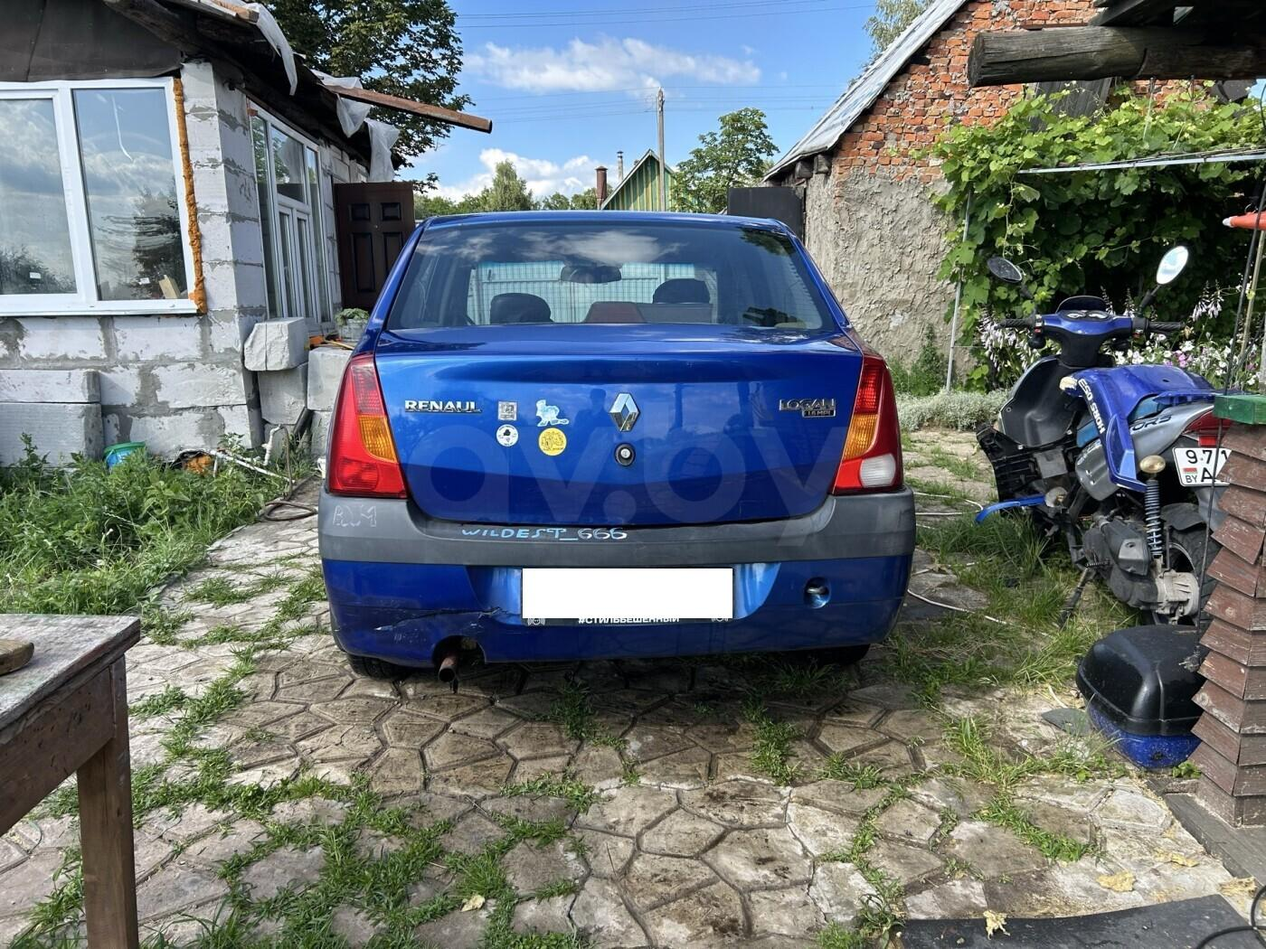Logan_2004-2009: (318, 207, 924, 689)
